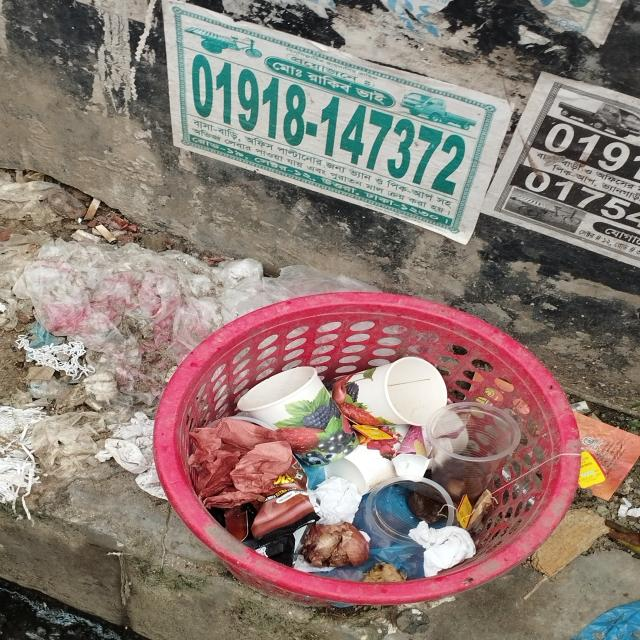paper: (236, 365, 354, 447), (190, 420, 290, 502), (346, 360, 448, 427), (410, 521, 478, 577), (308, 480, 360, 522)
plastic: (429, 403, 522, 505)
